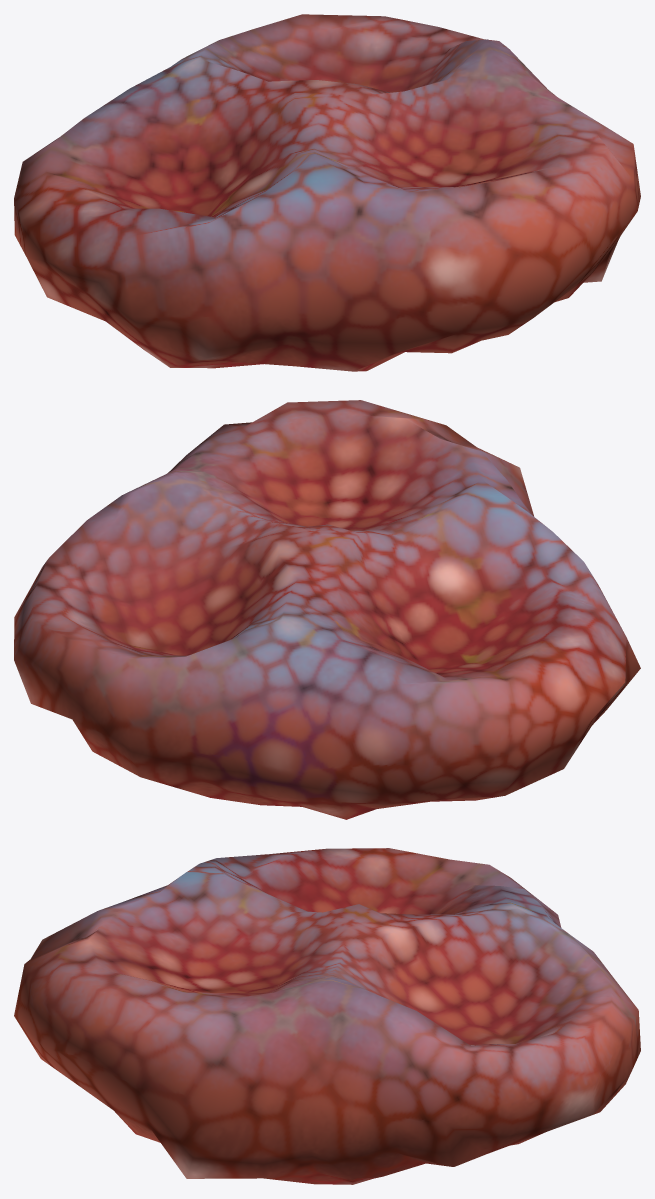
The model's file is coral20_FBX_still.fbx.
3 renders of one model, top to bottom at view 1: azimuth 30°, elevation 25°; view 2: azimuth 150°, elevation 25°; view 3: azimuth 270°, elevation 25°, orthographic. The views are drawn at different scales.
Visible parts, largest first — view 1: coral20_gameasset; view 2: coral20_gameasset; view 3: coral20_gameasset.
Boxes of the visible parts, bbox=[...] form: coral20_gameasset: bbox=[14, 14, 640, 371]; coral20_gameasset: bbox=[14, 400, 640, 819]; coral20_gameasset: bbox=[14, 848, 640, 1184].
Bounding box in the file's own units: 1.37 × 0.5921 × 1.48.
Materials: 1 (1 with a texture image).
